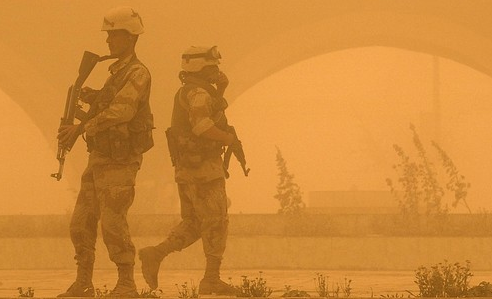person: (51, 5, 157, 299), (135, 43, 250, 299)
